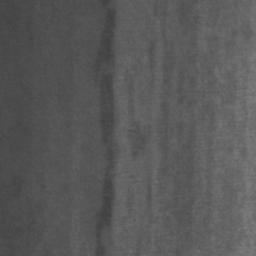Inclusion: (95, 12, 115, 233)
